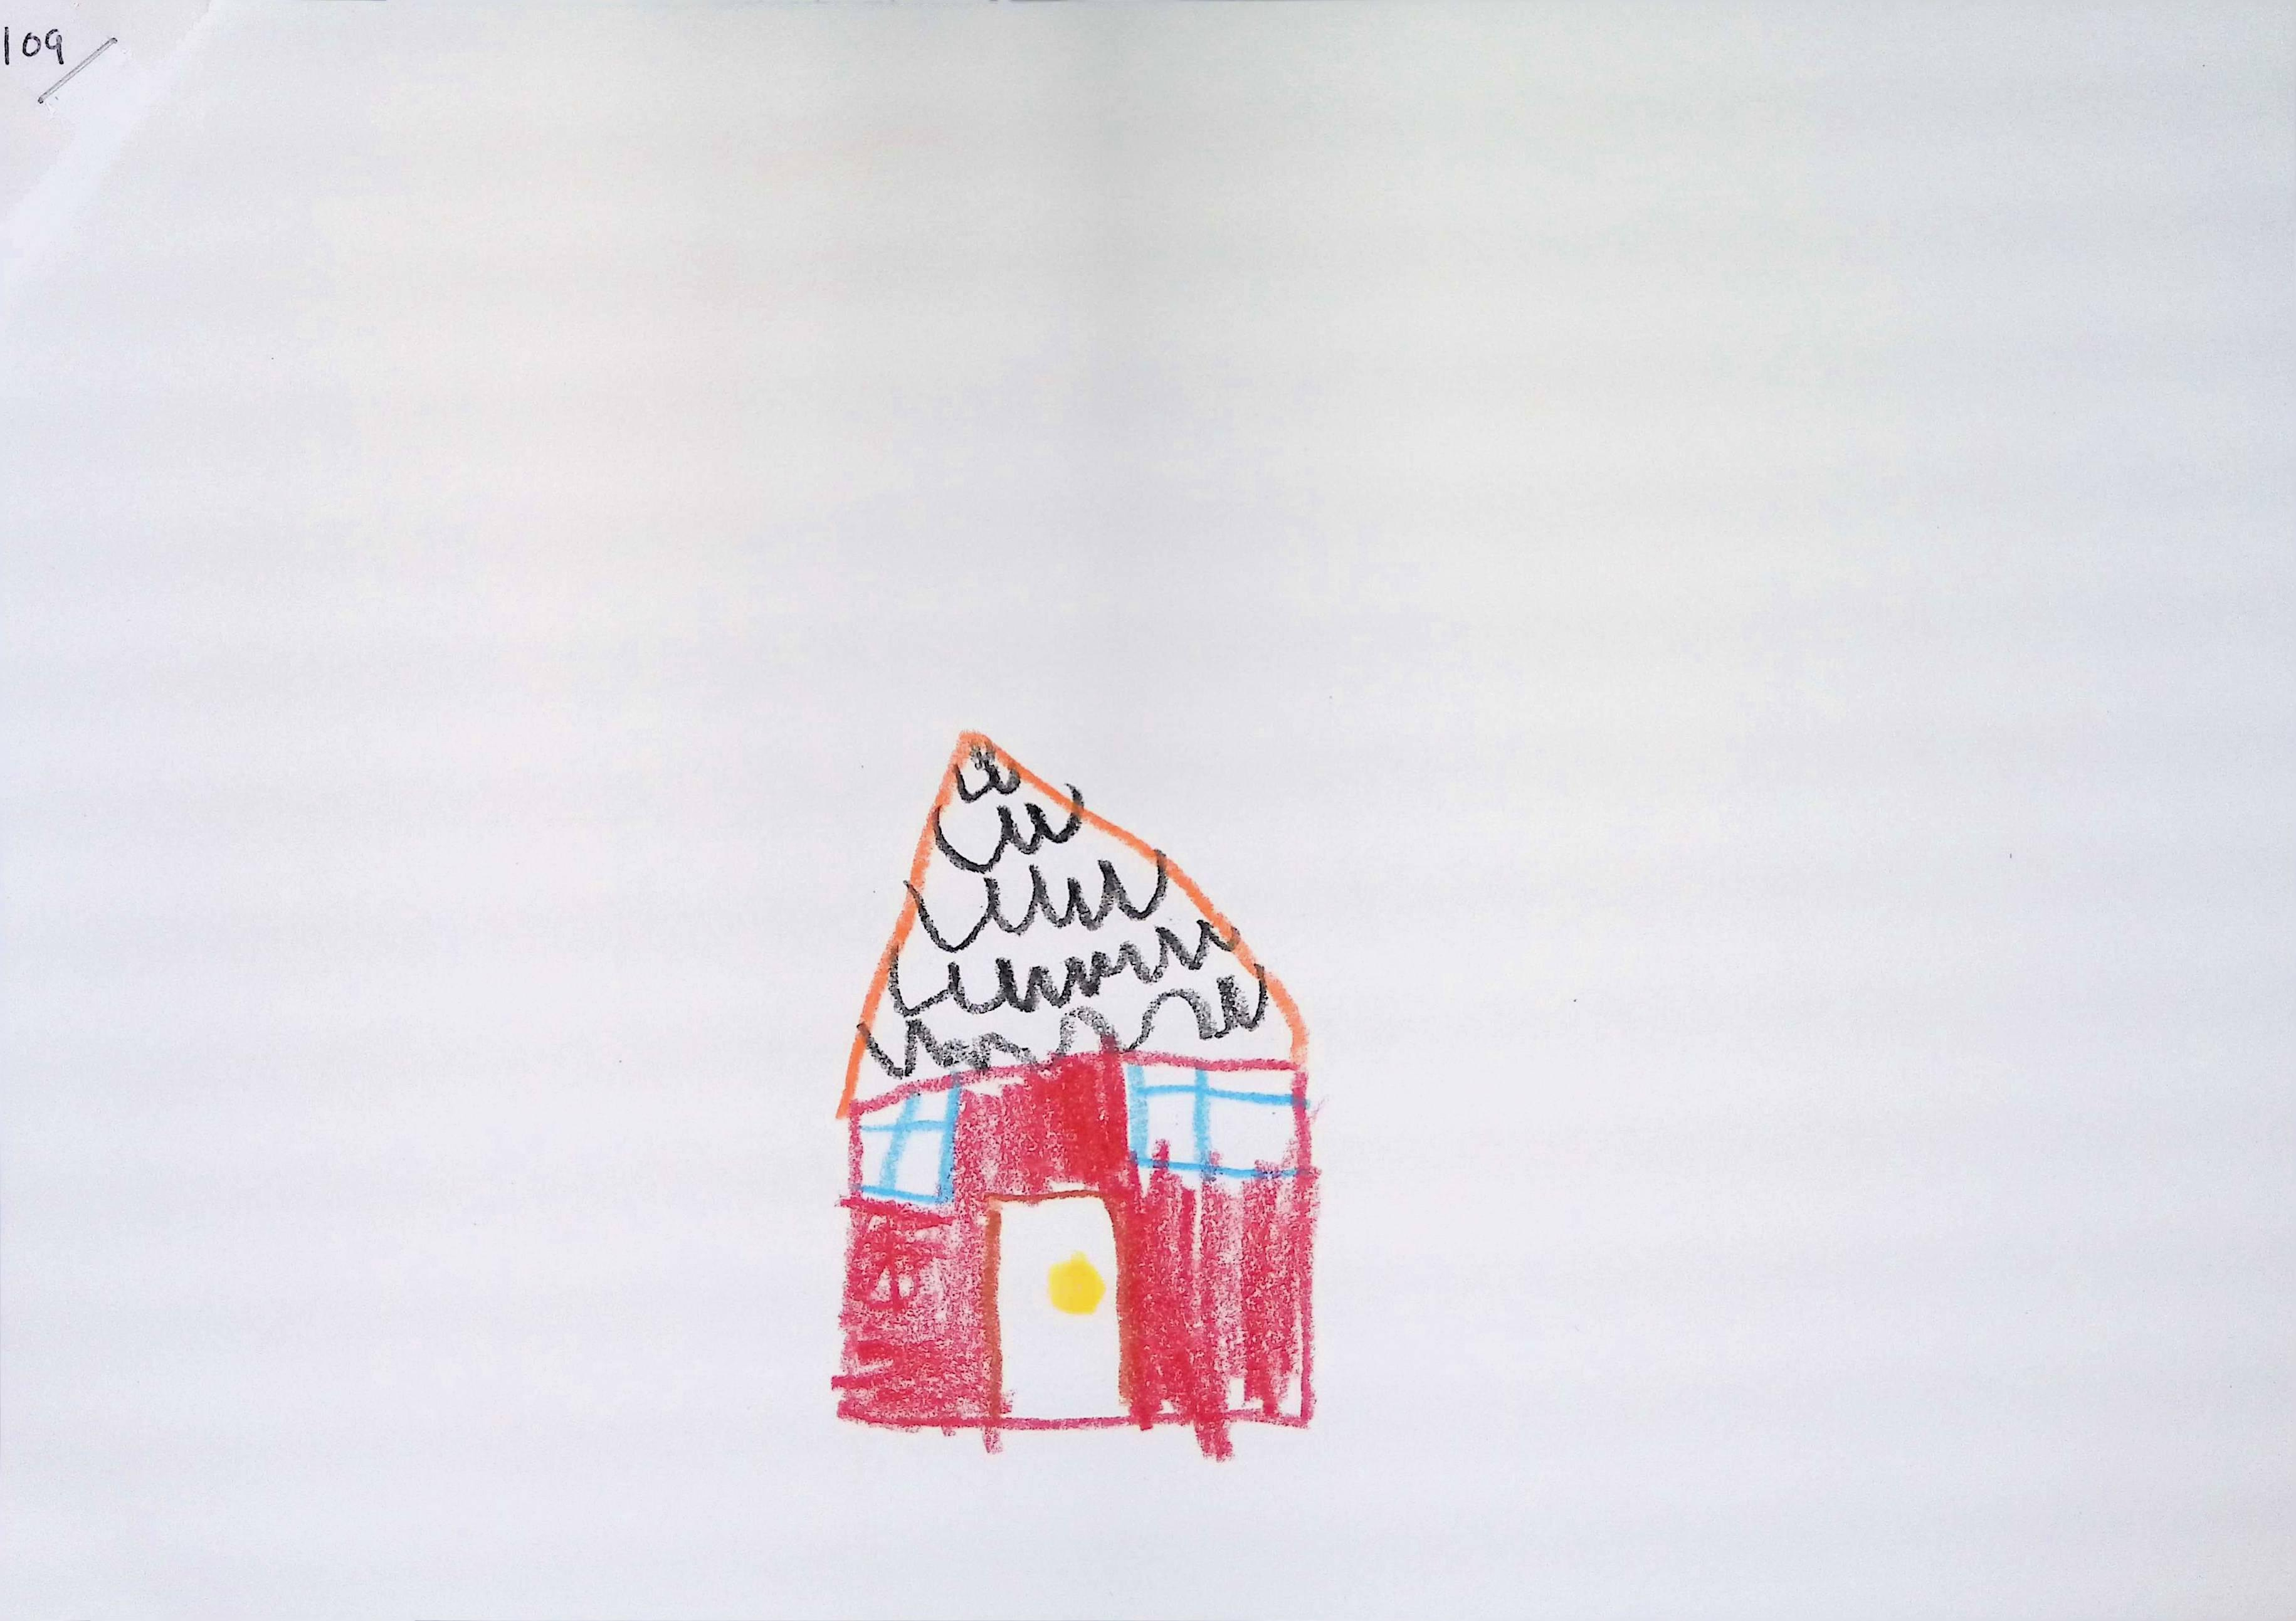door: (996, 1198, 1124, 1421)
house: (835, 733, 1317, 1458)
roof: (844, 733, 1307, 1110)
wall: (833, 1063, 1317, 1437)
window: (1124, 1065, 1298, 1179), (858, 1086, 961, 1207)
